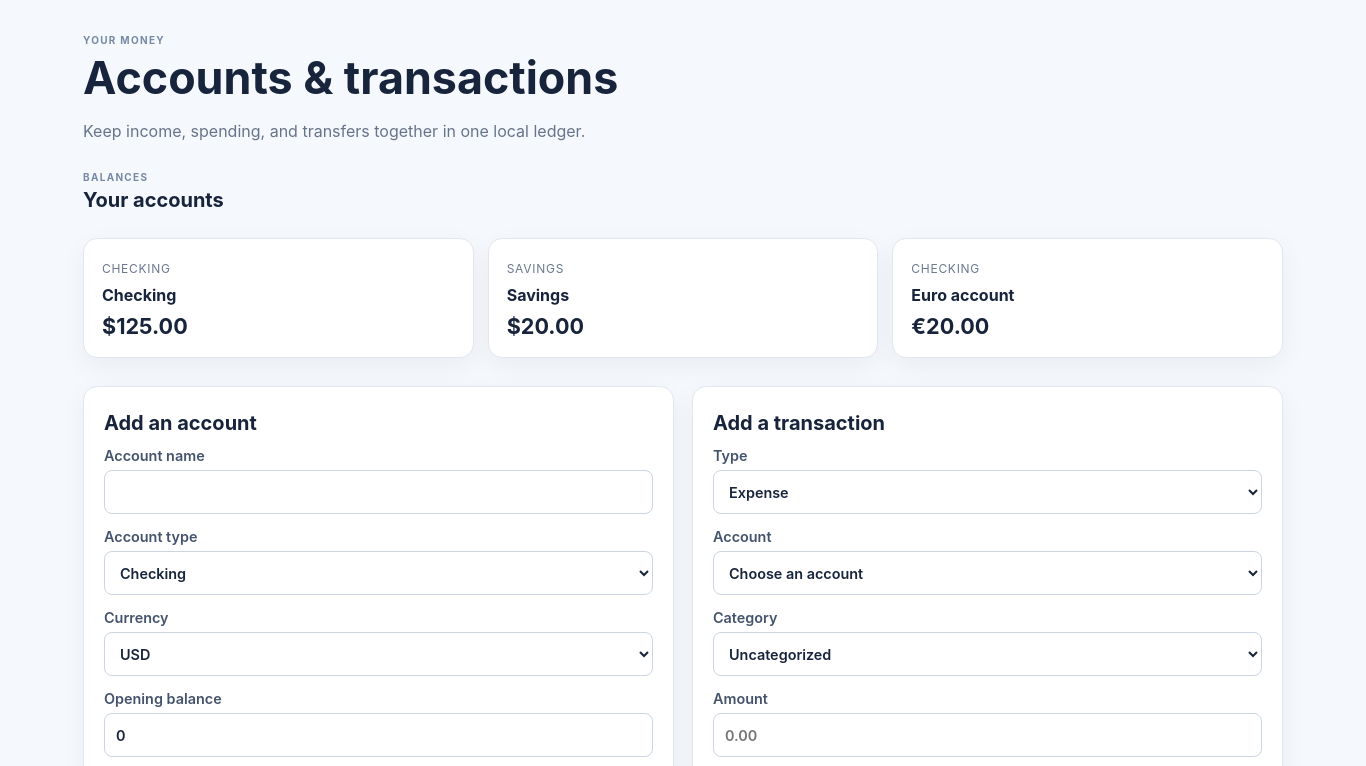
Test: creates an exact-minor-unit transaction from the local accounts view
The image size is (1366, 766).
Expected: the heading "Checking" is shown, [102,285,176,305]
Step 1. Select "Checking (USD)" in the dropdown labelled "Account" → (988, 573), box [713,551,1262,595]
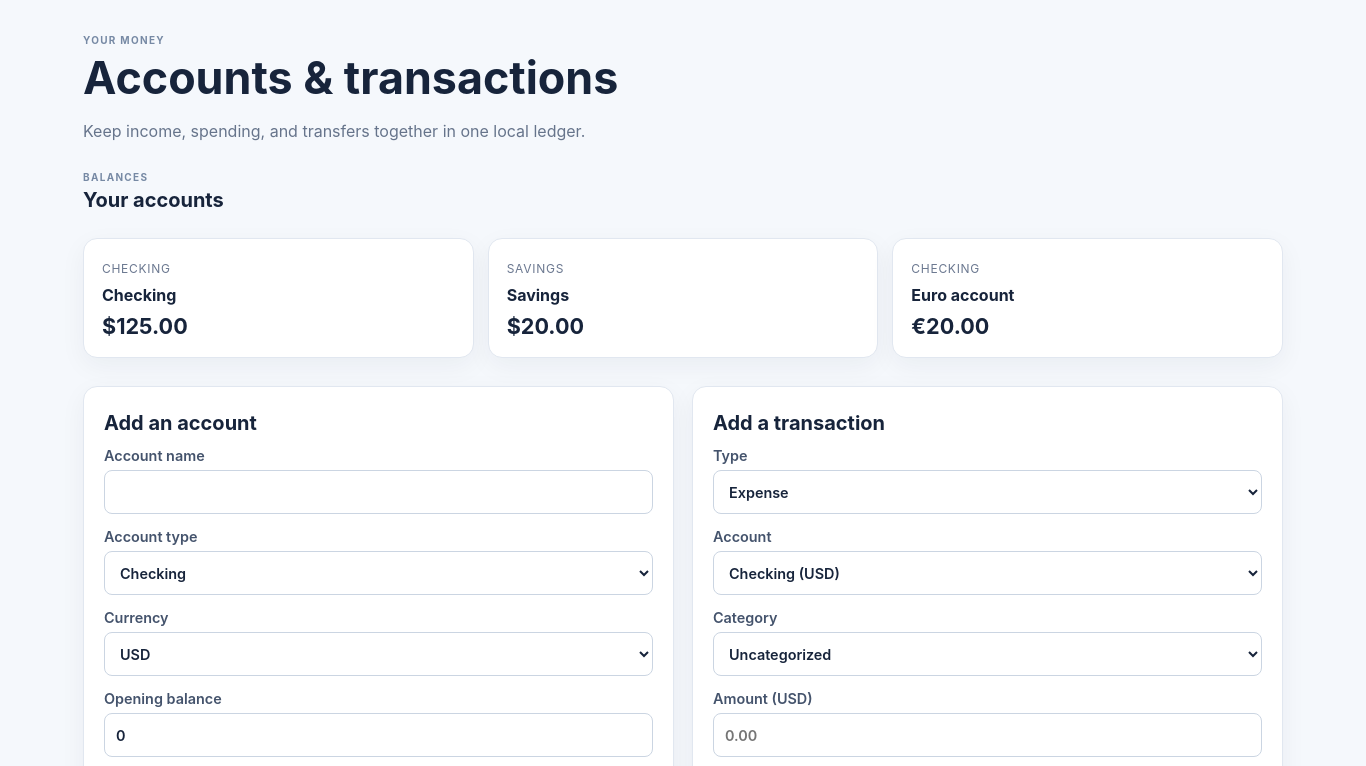
Step 2. Select "Food" in the dropdown labelled "Category" → (988, 654), box [713,632,1262,676]
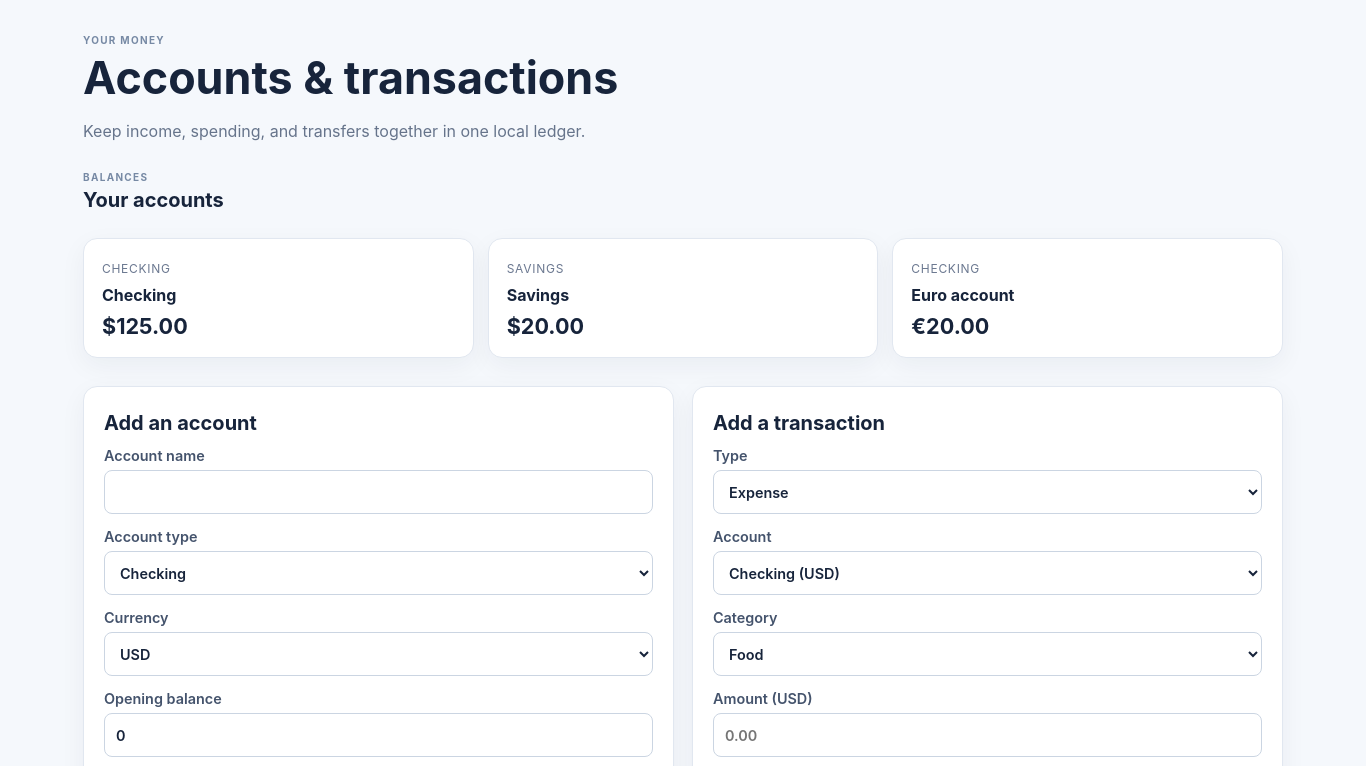
Step 3. Type "12.34" into the field labelled "Amount (USD)" → (988, 735), box [713,713,1262,757]
(page scrolled)
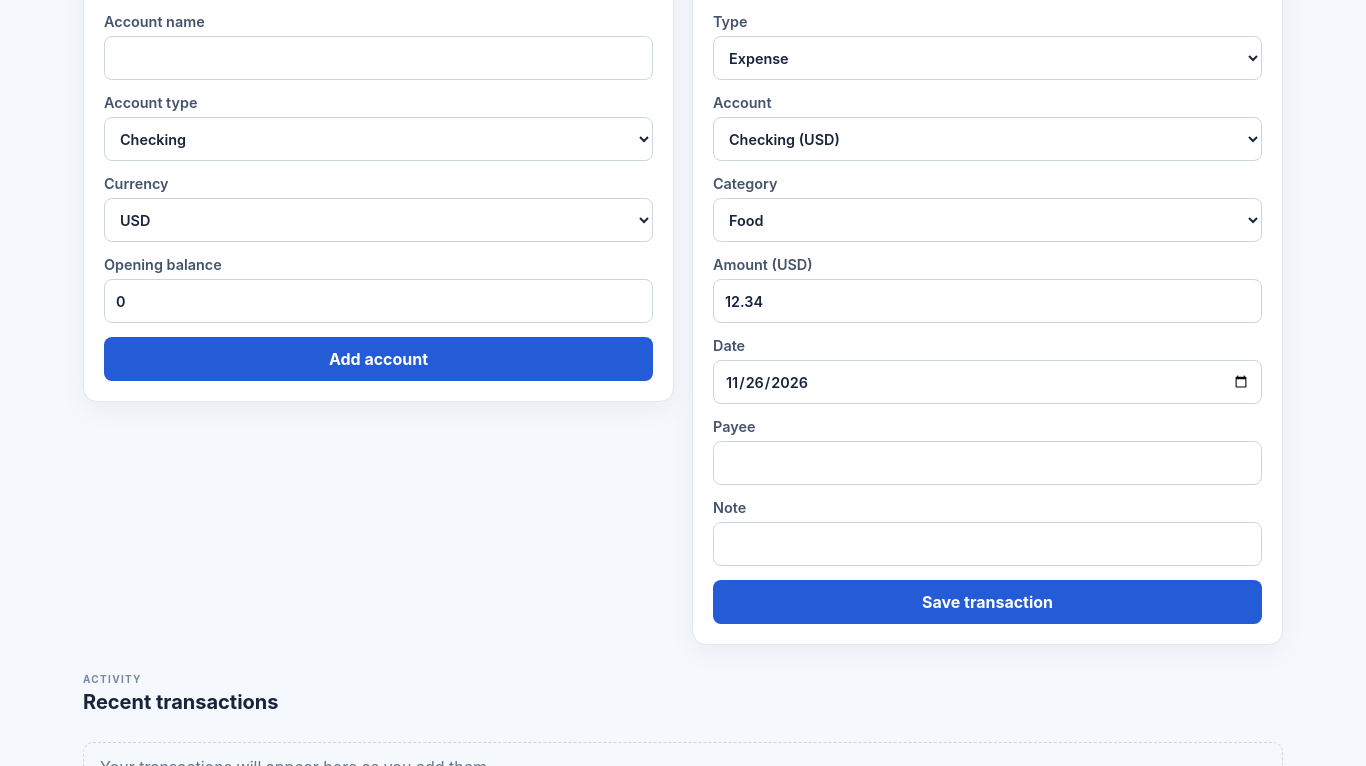
Step 4. Type "2026-11-08" into the date field labelled "Date" → (988, 382), box [713,360,1262,404]
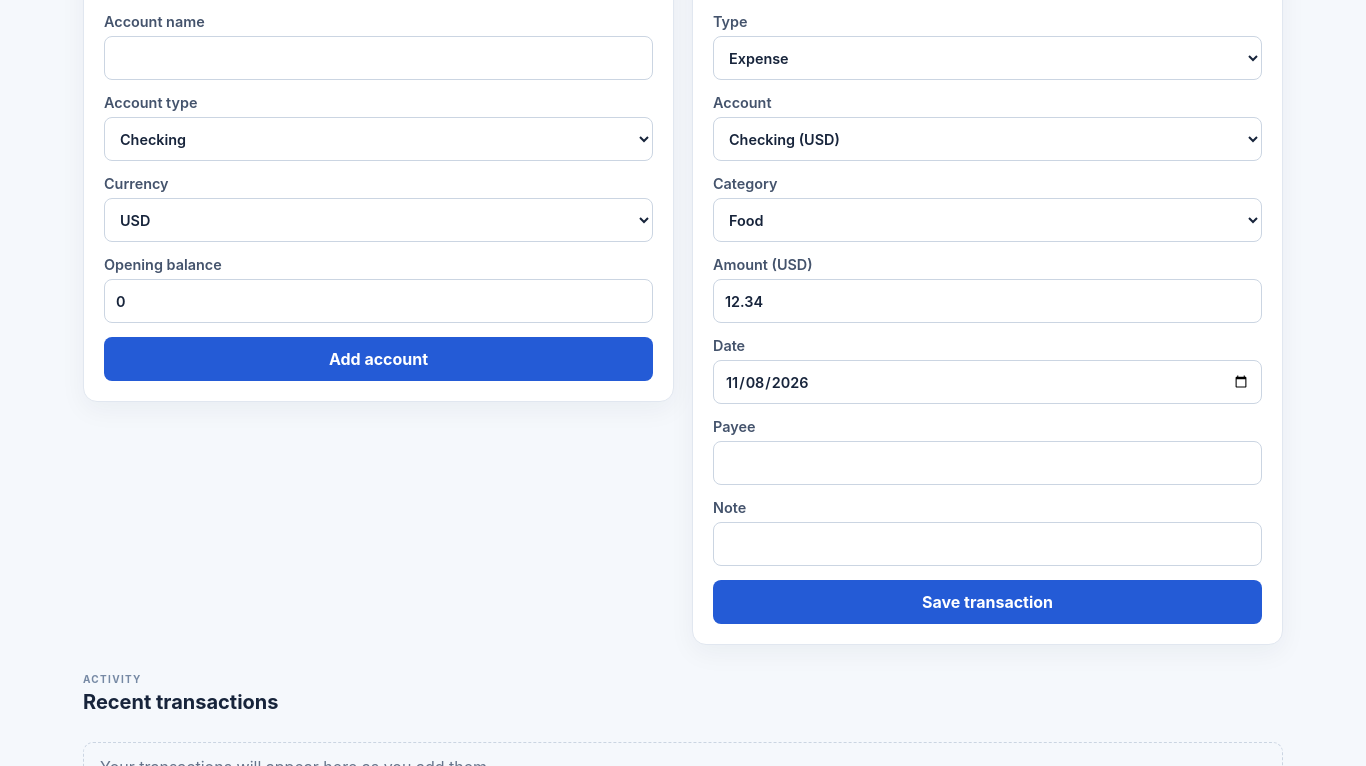
Step 5. Type "Market" into the field labelled "Payee" → (988, 463), box [713,441,1262,485]
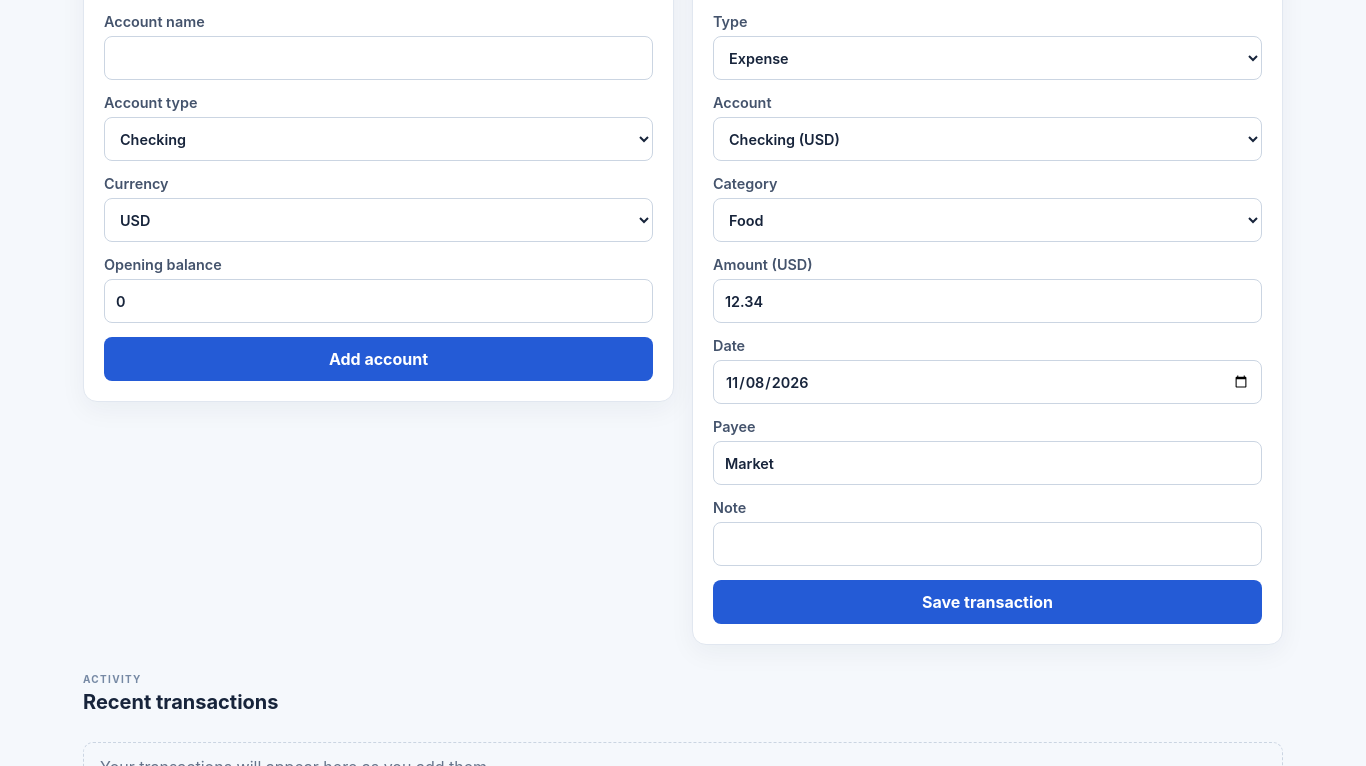
Step 6. Click the button "Save transaction" → (988, 602), box [713,580,1262,624]
(page scrolled)
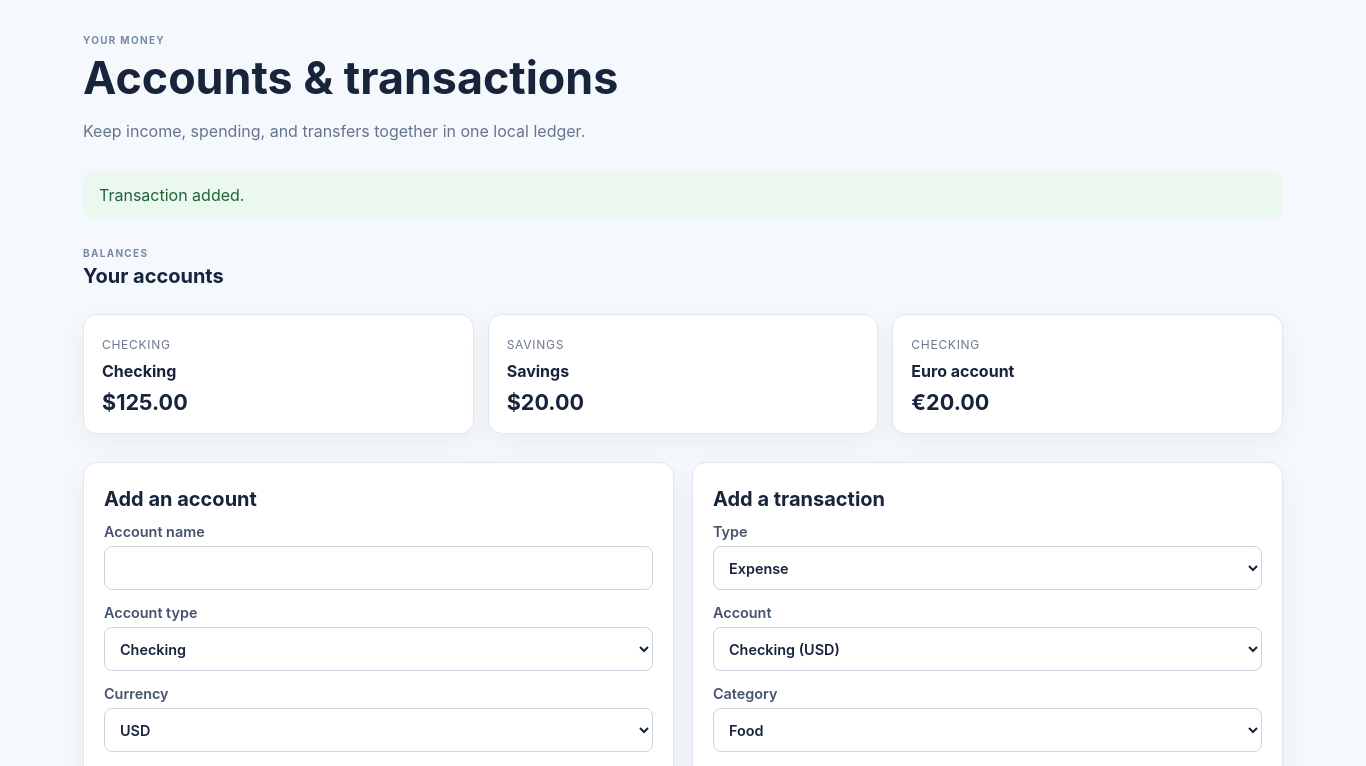
Expected: the text "Transaction added." is shown, [83,171,1283,219]
